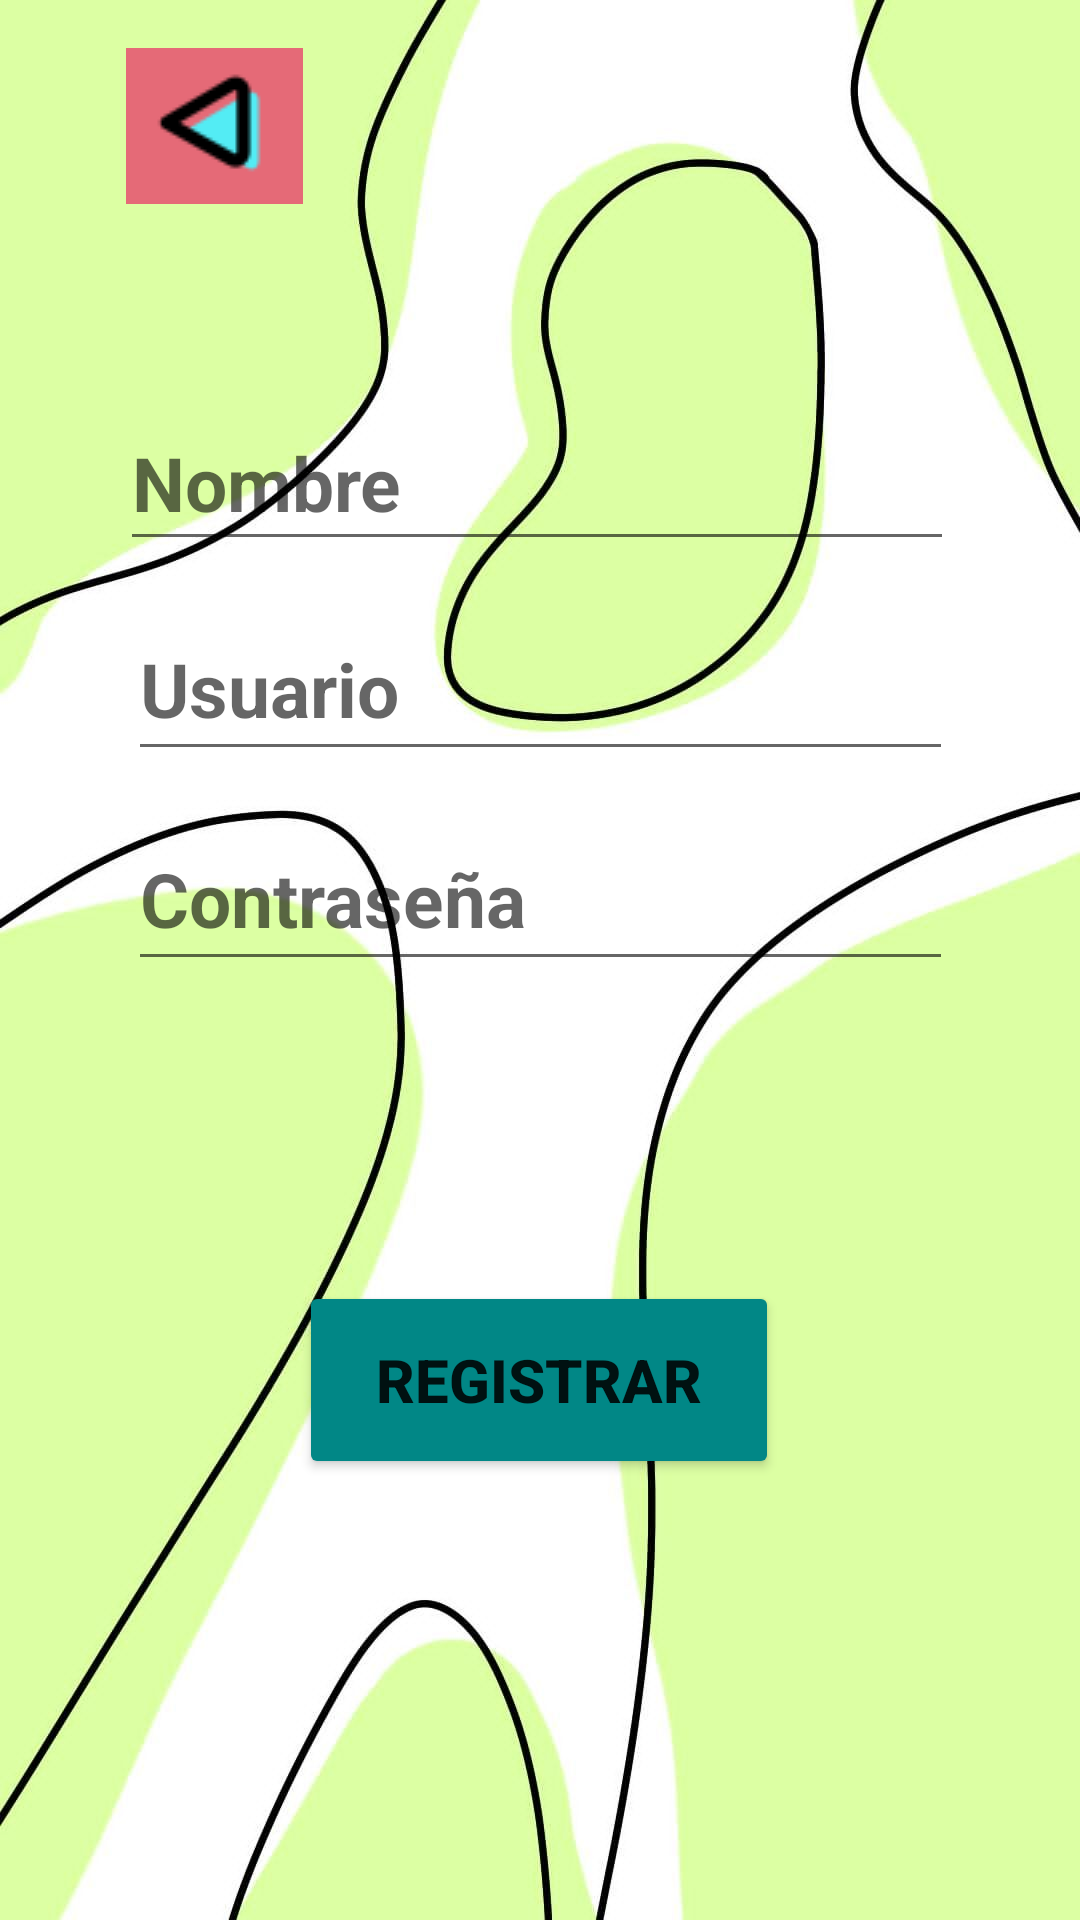

Point at icon controls on the screen. Image size 1080px×1920px, points as [x,y].
back: [214,126]
